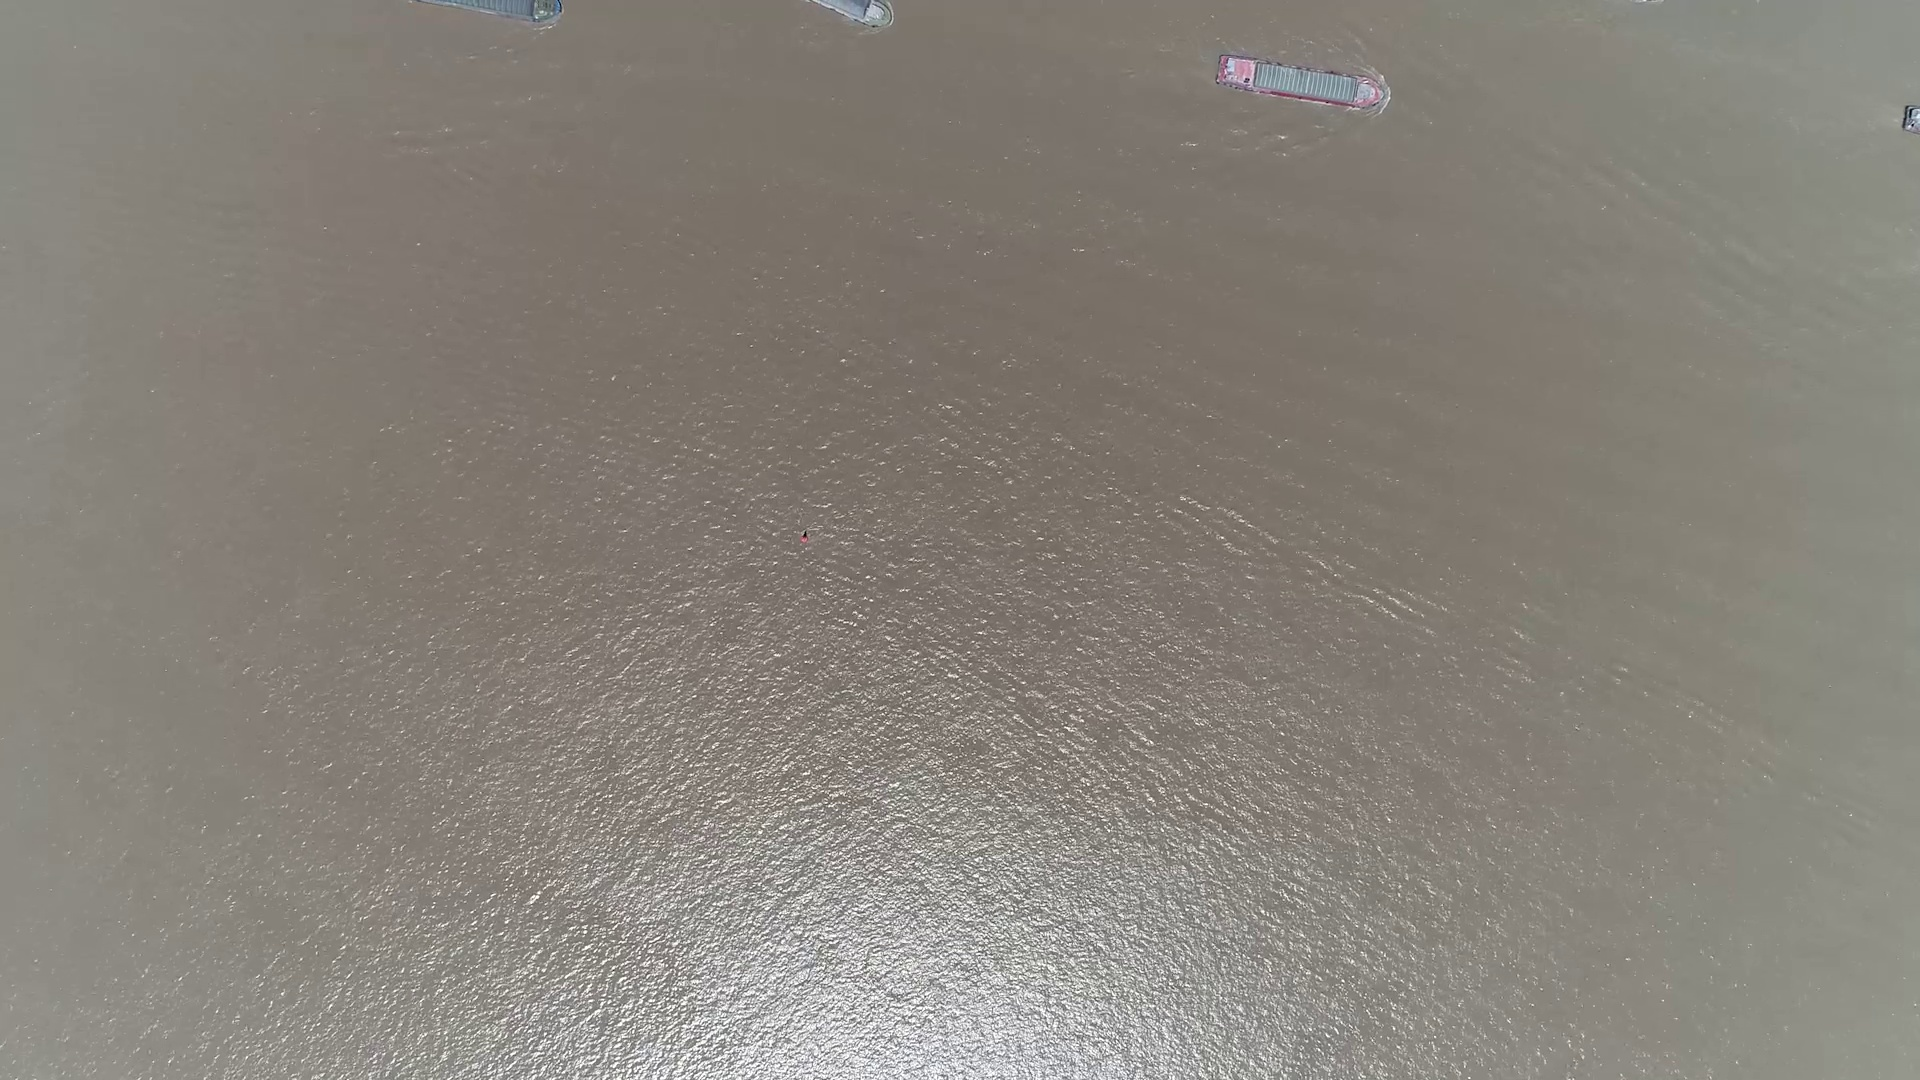ship: (1211, 54, 1389, 111)
